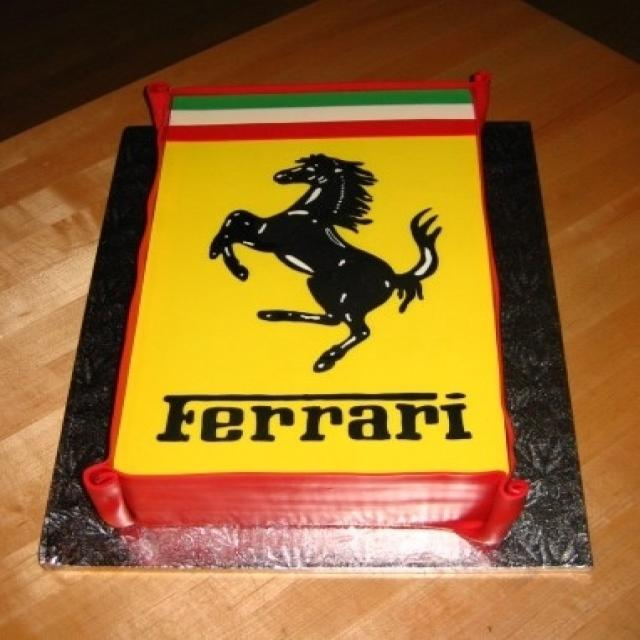ferrari: (115, 86, 520, 481)
